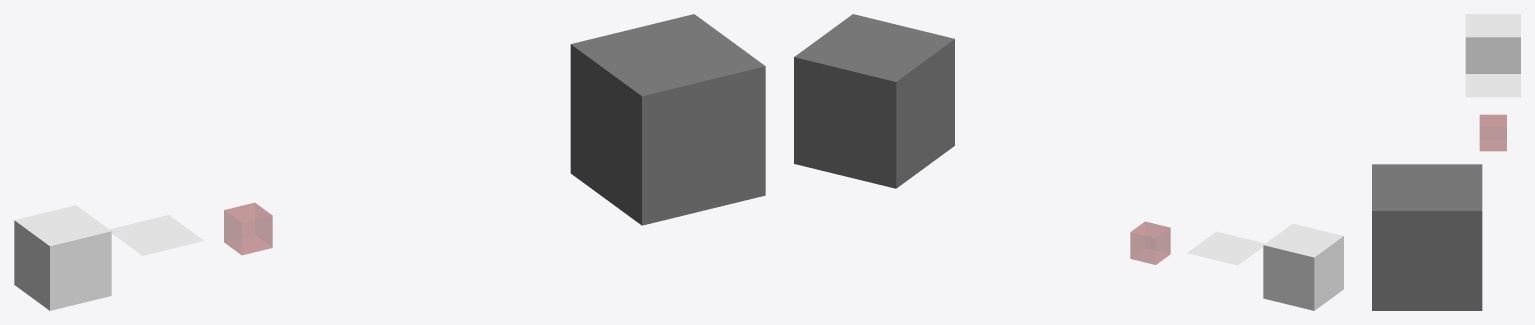
The model's file is scene_features.fbx.
3 renders of one model, left to right at view 1: azimuth 30°, elevation 25°; view 2: azimuth 150°, elevation 25°; view 3: azimuth 270°, elevation 25°, orthographic. The views are drawn at different scales.
Visible parts, largest first — view 1: Box2m, SpecCube, LeafPlane, GlassBox; view 2: Box2m, SpecCube, LeafPlane, GlassBox; view 3: Box2m, SpecCube, LeafPlane, GlassBox.
Part boxes in pixels (x1,y1,x2,y2): Box2m: (570, 14, 765, 225); SpecCube: (14, 205, 111, 310); LeafPlane: (109, 215, 203, 255); GlassBox: (224, 203, 272, 254); Box2m: (794, 14, 954, 188); SpecCube: (1263, 223, 1343, 310); LeafPlane: (1187, 231, 1264, 265); GlassBox: (1130, 221, 1170, 264); Box2m: (1372, 164, 1482, 310); SpecCube: (1465, 14, 1520, 73); LeafPlane: (1465, 74, 1520, 97); GlassBox: (1480, 115, 1506, 150).
Size of the model in its own units: 10.6 by 2 by 2.7.
